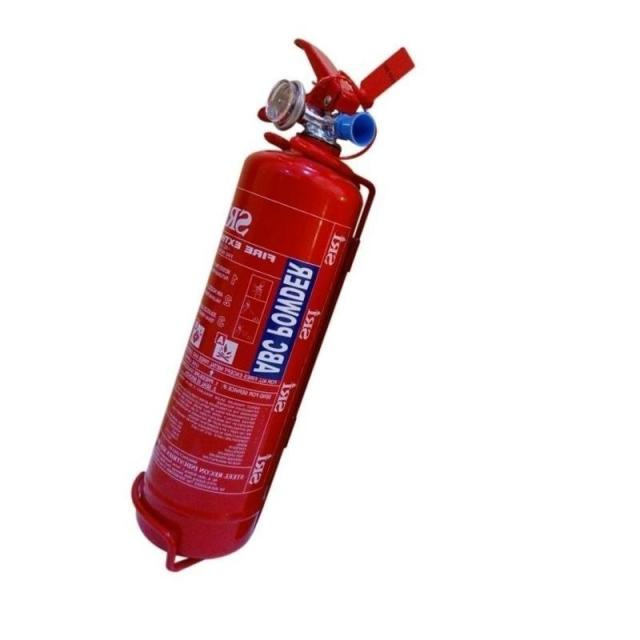fire_extinguisher: (129, 37, 414, 560)
